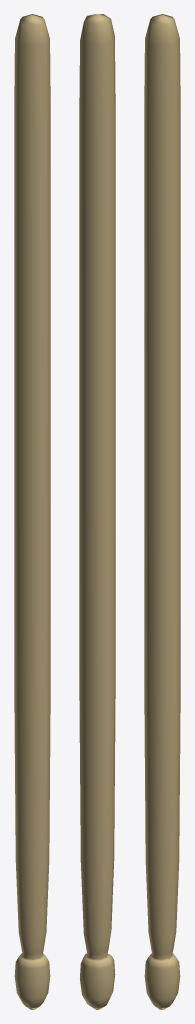
Rendered from baguette.fbx.
3 renders of one model, left to right at view 1: azimuth 90°, elevation 25°; view 2: azimuth 150°, elevation 25°; view 3: azimuth 270°, elevation 25°, orthographic.
Visible parts, largest first — view 1: Cube; view 2: Cube; view 3: Cube.
Part boxes in pixels (x1=…): Cube: x1=14, y1=14, x2=50, y2=1009; Cube: x1=79, y1=14, x2=115, y2=1009; Cube: x1=144, y1=14, x2=180, y2=1009.
Size of the model in its own units: 1.38 by 41.2 by 1.38.
